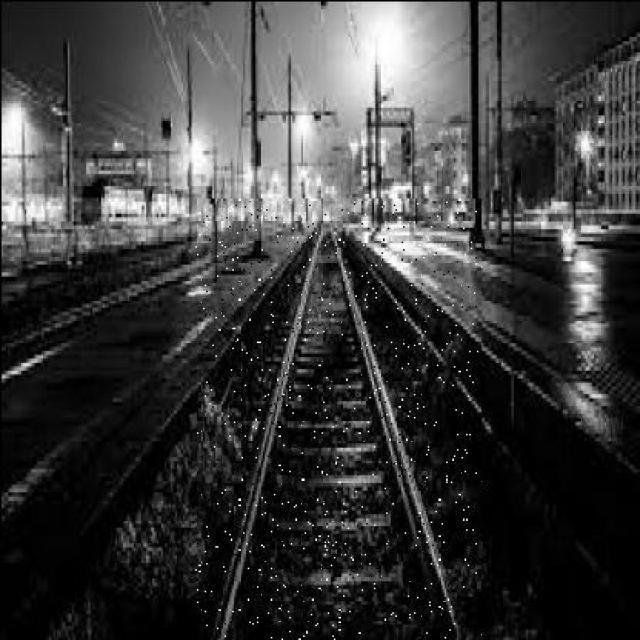rail: (195, 199, 480, 639)
